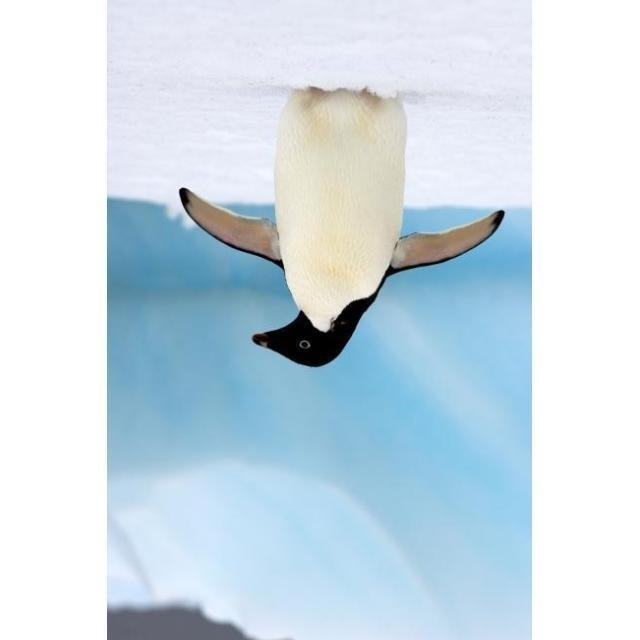penguin: (177, 84, 509, 369)
